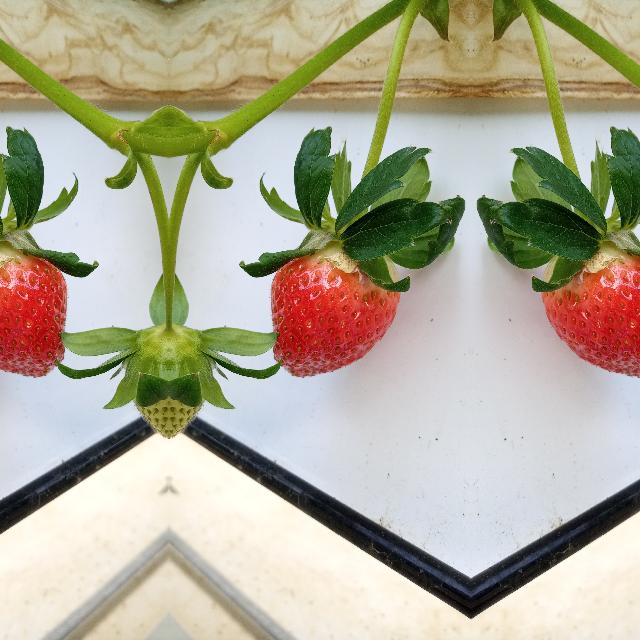Health_100: (268, 240, 400, 378), (541, 240, 640, 377), (0, 240, 68, 377)
